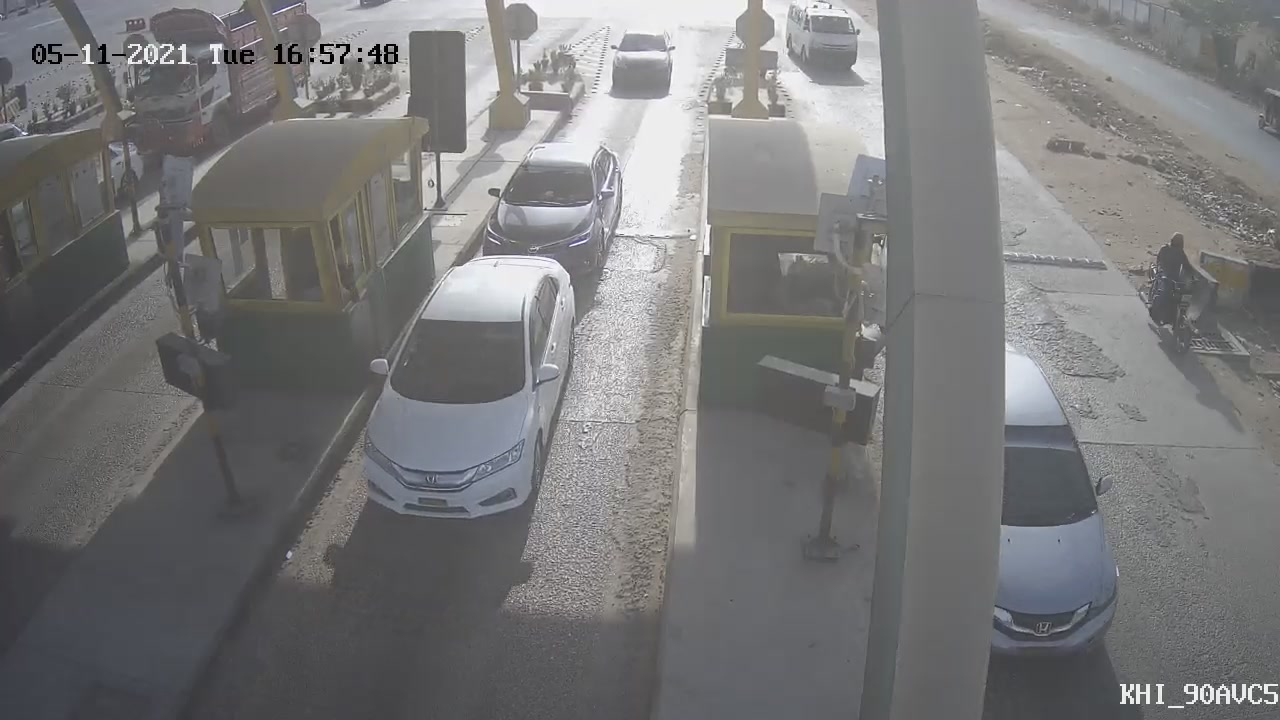F1: (329, 225, 600, 546), (463, 126, 637, 299)
